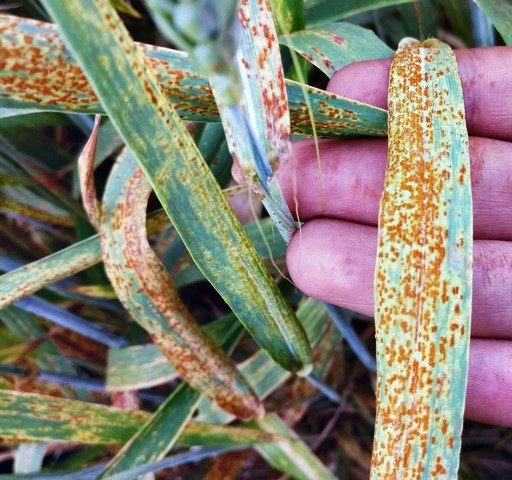Leaf Rust: (367, 77, 481, 472)
